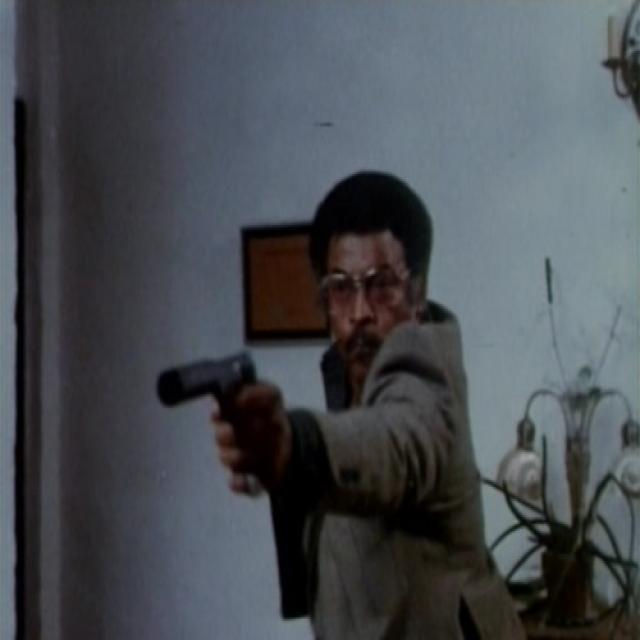weapons: (146, 328, 276, 482)
